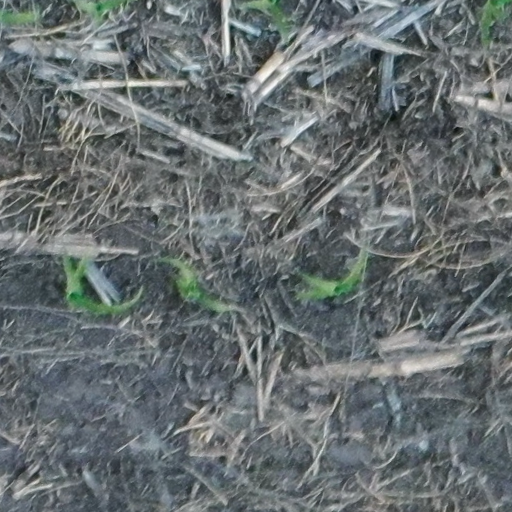planta: (149, 258, 244, 314), (63, 252, 142, 314), (293, 239, 367, 298)
